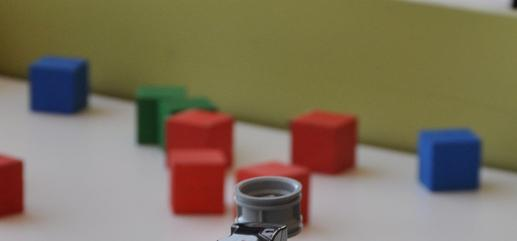bluecube: (417, 128, 481, 190), (30, 56, 88, 114)
green cube: (136, 83, 188, 145), (156, 95, 217, 145)
red cube: (294, 109, 358, 174), (167, 148, 226, 213), (165, 107, 232, 164), (0, 154, 25, 220)
